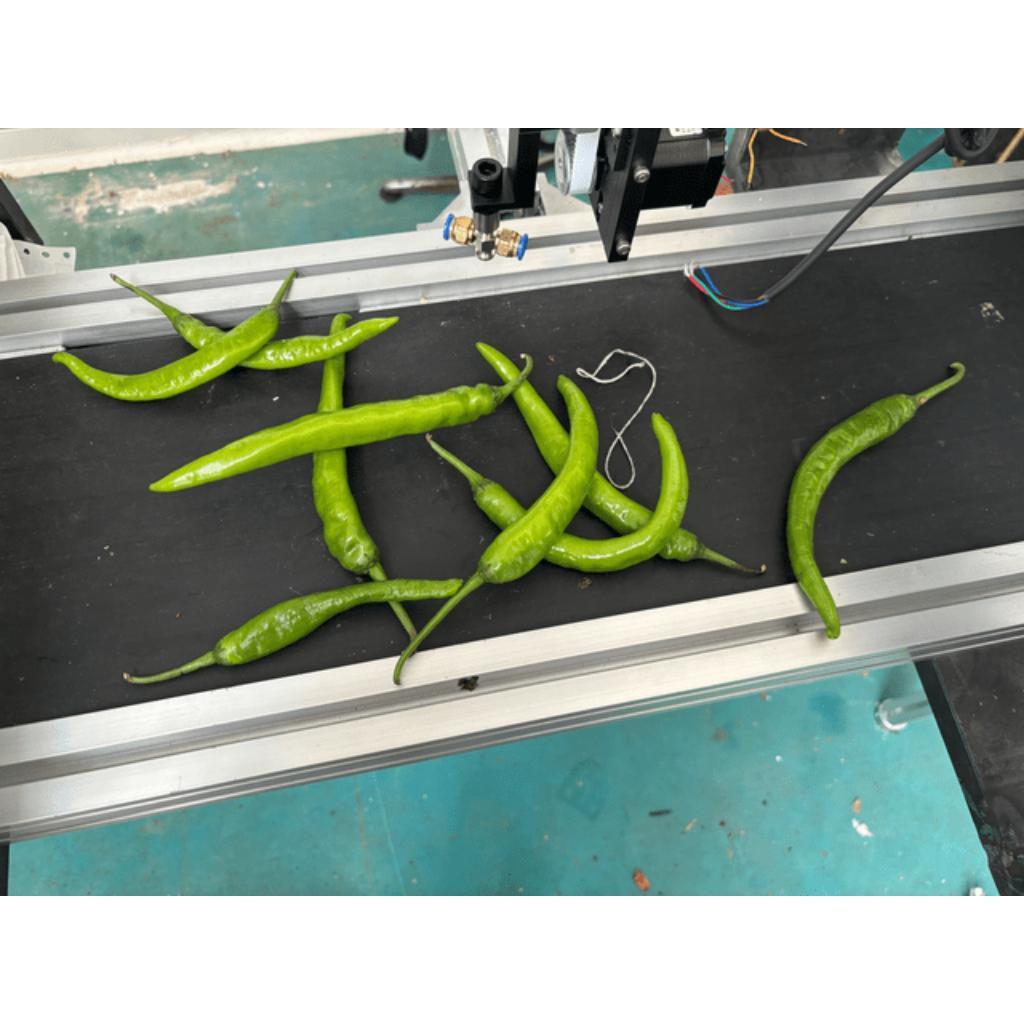chili: (470, 338, 707, 564), (142, 384, 508, 496), (471, 408, 692, 573), (783, 392, 919, 647), (475, 370, 603, 585), (205, 578, 467, 667), (48, 304, 283, 402), (309, 309, 385, 578), (171, 311, 402, 371)
